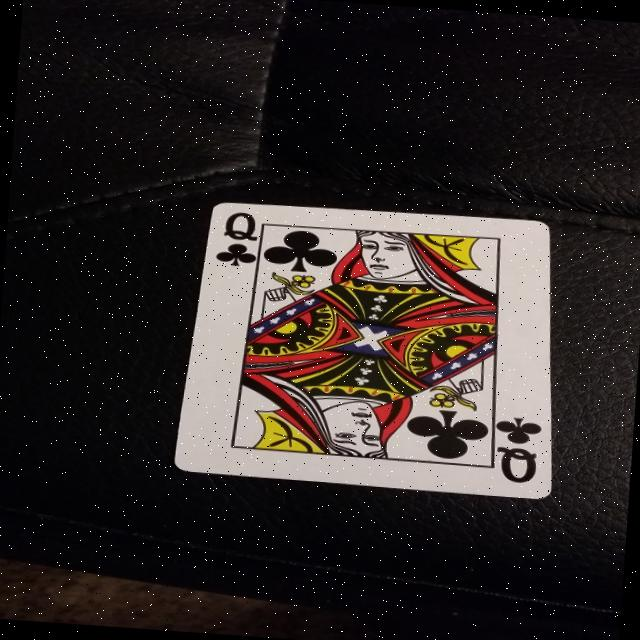Qc: (472, 409, 556, 491), (205, 204, 267, 272)
